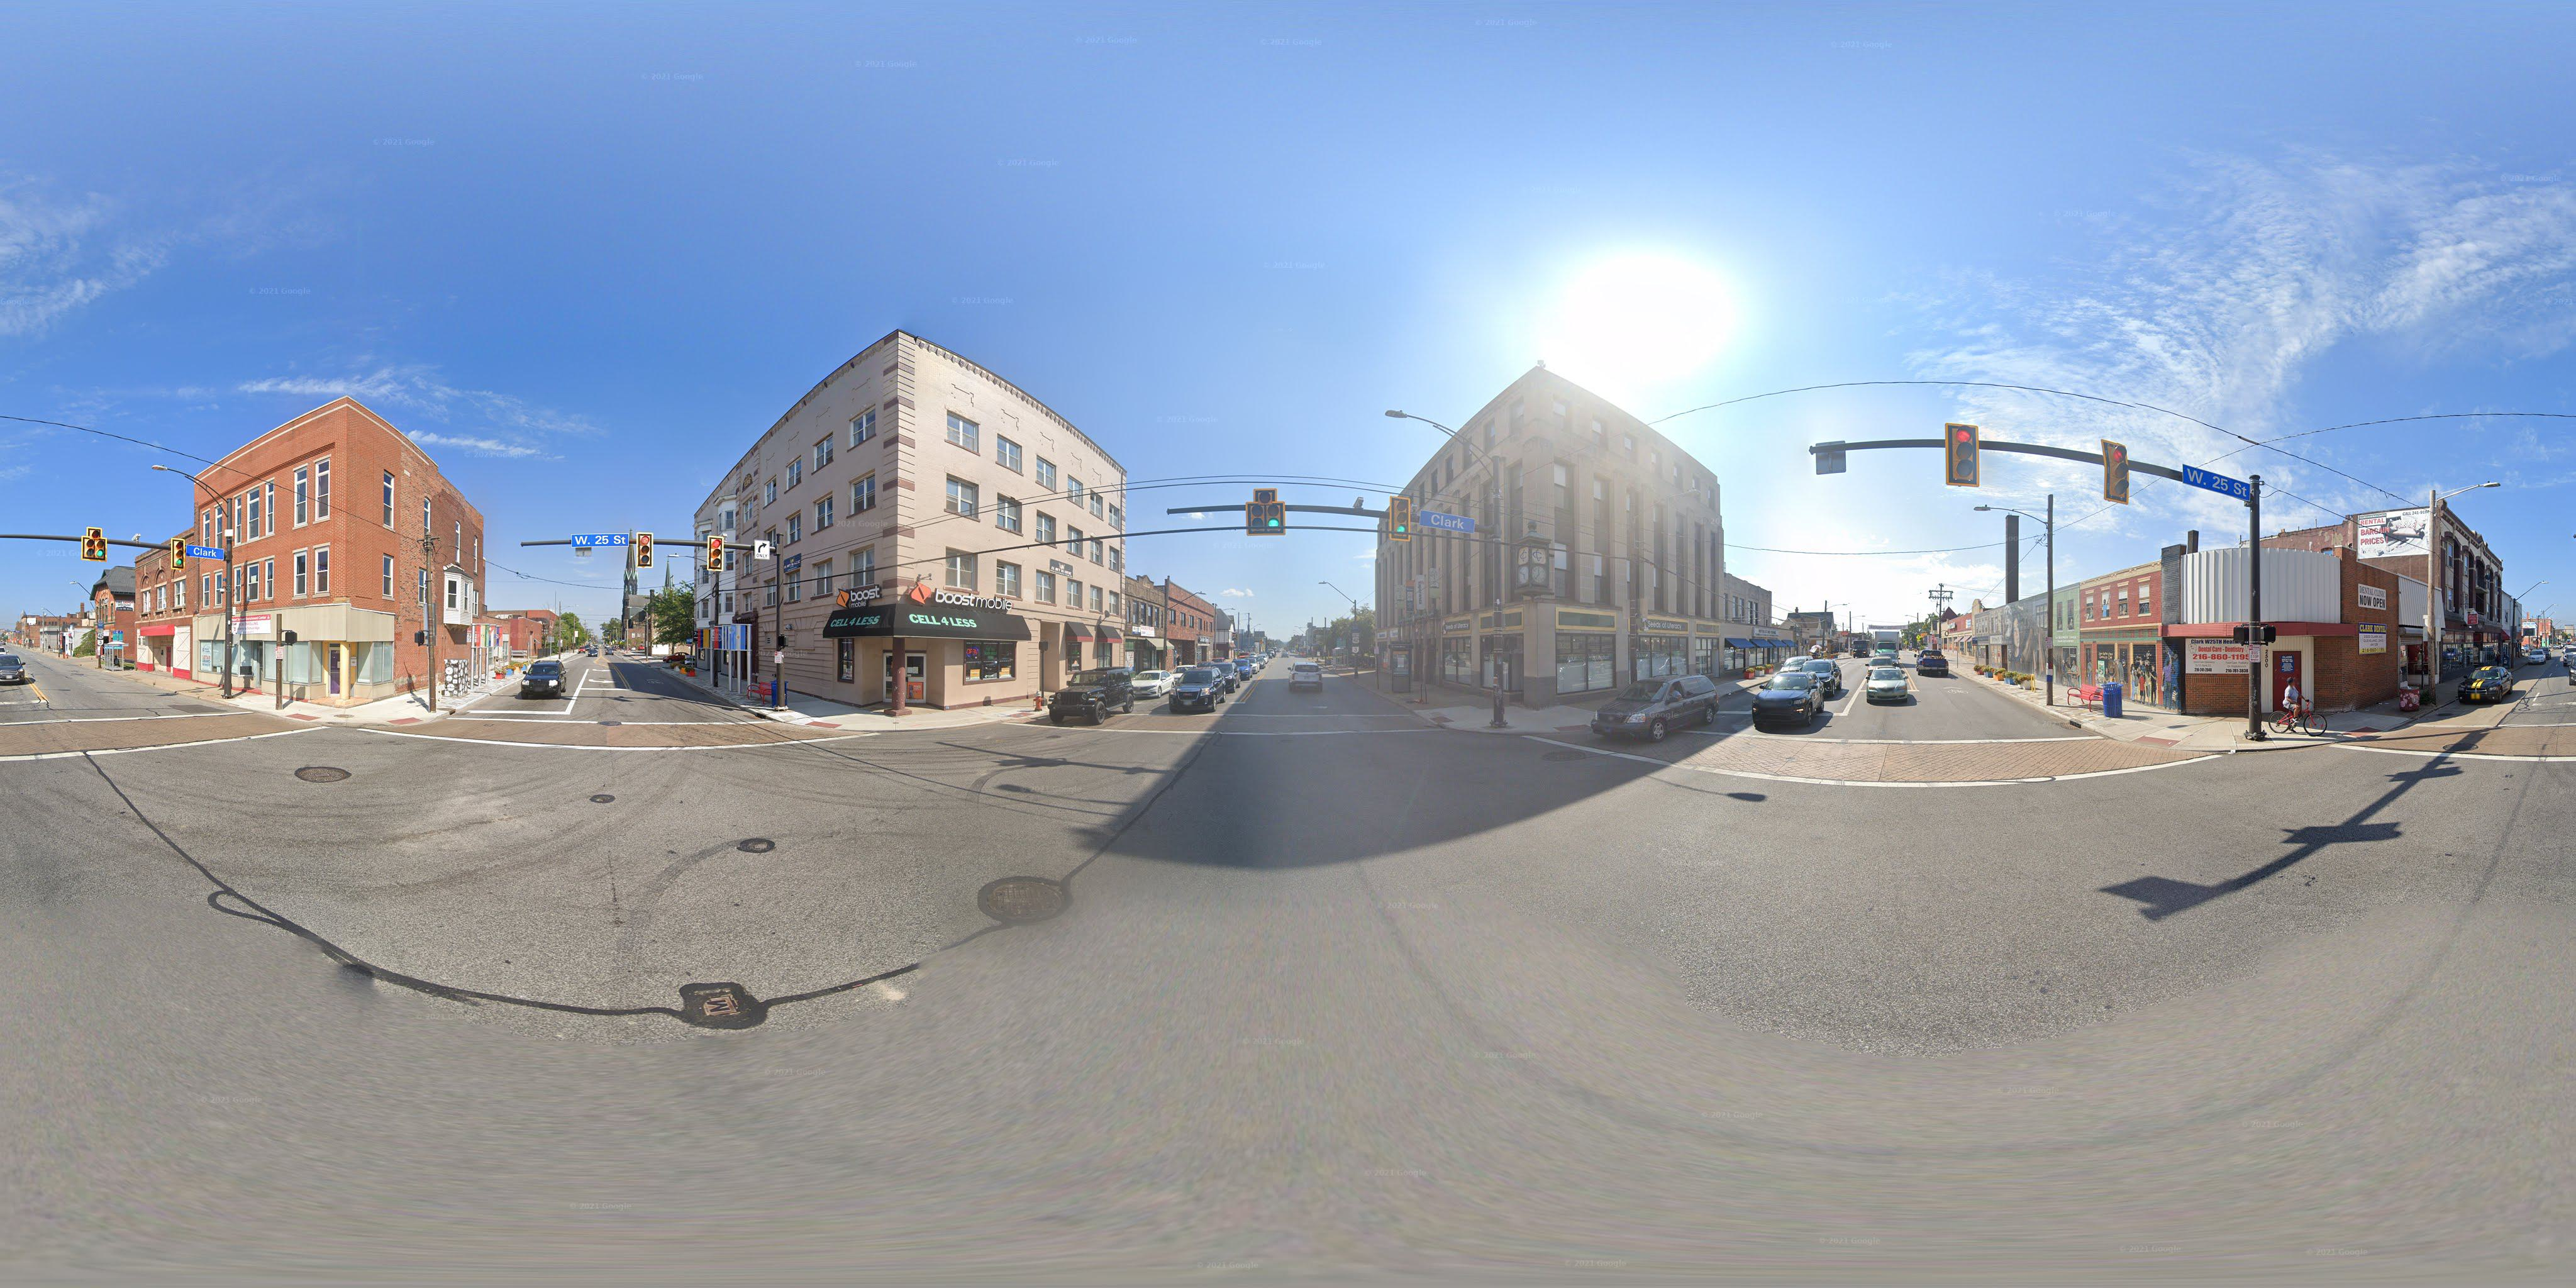Curb Ramp: (2111, 711, 2215, 766), (2320, 715, 2397, 749), (1531, 713, 1602, 746), (779, 711, 864, 738), (263, 705, 335, 731), (375, 710, 437, 733)
Irregular Ramp: (987, 703, 1043, 728)
